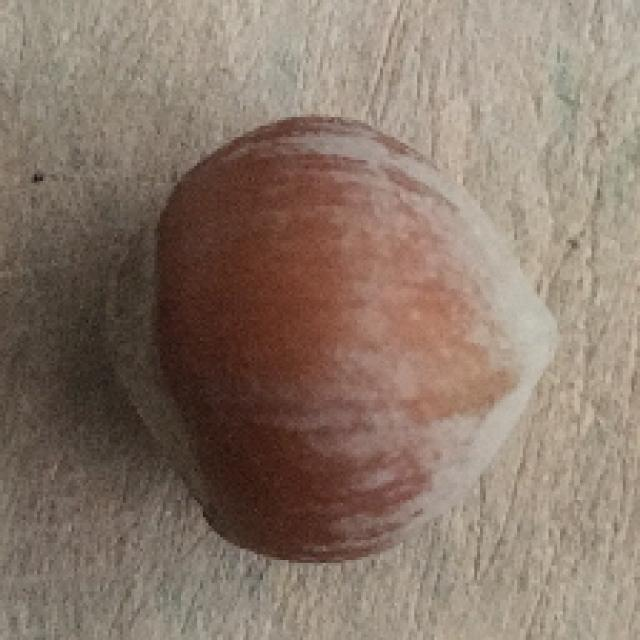qualityHazelnut: (117, 116, 561, 562)
